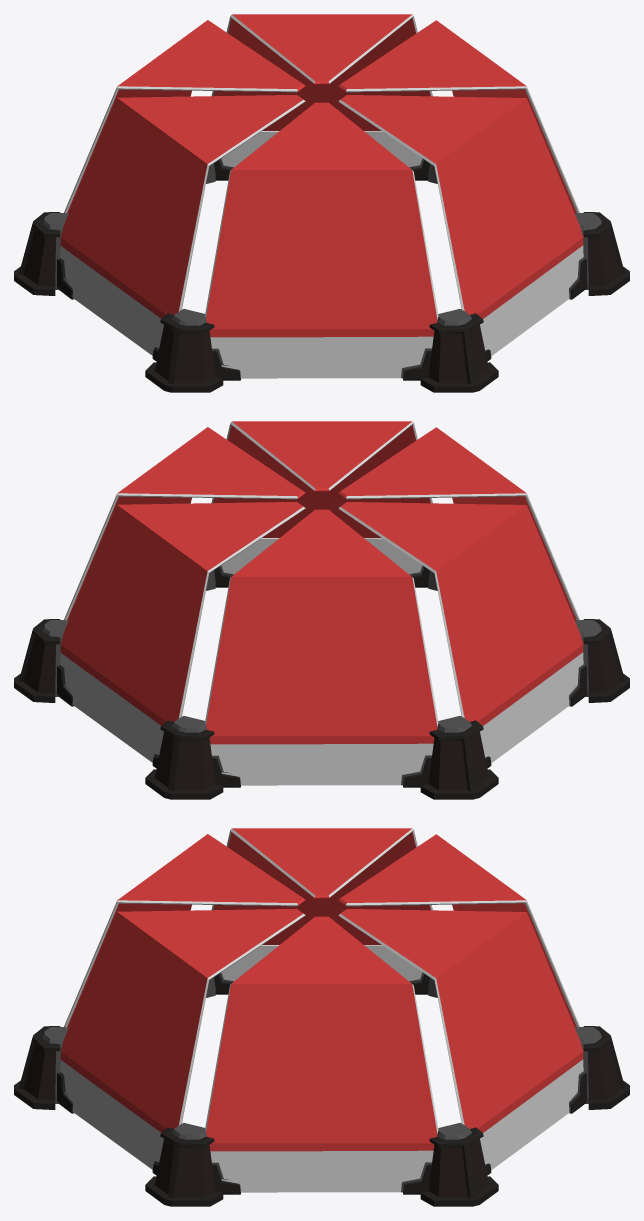
Rendered from Bunker.fbx.
3 views of the same model, one above another, from view 1: azimuth 30°, elevation 25°; view 2: azimuth 150°, elevation 25°; view 3: azimuth 270°, elevation 25° (orthographic).
Visible parts, largest first — view 1: Bunker Walls, Bunker Wall Low, Bunker corners; view 2: Bunker Walls, Bunker Wall Low, Bunker corners; view 3: Bunker Walls, Bunker Wall Low, Bunker corners.
Part boxes in pixels (<box>): Bunker Walls: <box>60,14,583,337</box>; Bunker Wall Low: <box>60,131,583,378</box>; Bunker corners: <box>14,158,629,392</box>; Bunker Walls: <box>60,421,583,744</box>; Bunker Wall Low: <box>60,538,583,785</box>; Bunker corners: <box>14,565,629,799</box>; Bunker Walls: <box>60,828,583,1151</box>; Bunker Wall Low: <box>60,945,583,1192</box>; Bunker corners: <box>14,972,629,1206</box>.
Bounding box in the file's own units: 7.33 × 2.82 × 8.4.
